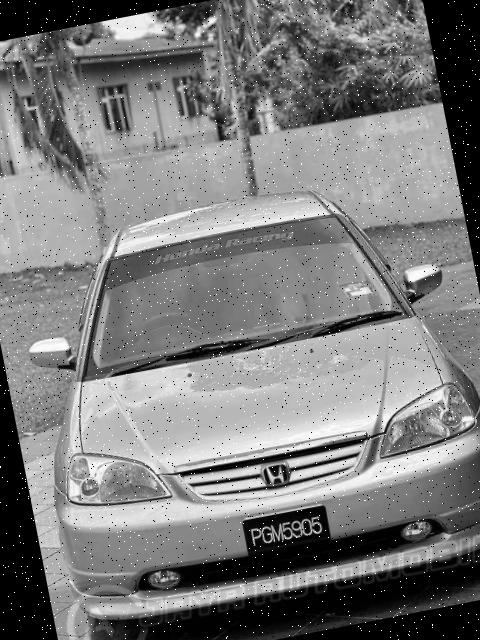License_Plate: (245, 503, 340, 558)
car: (1, 148, 480, 640)
